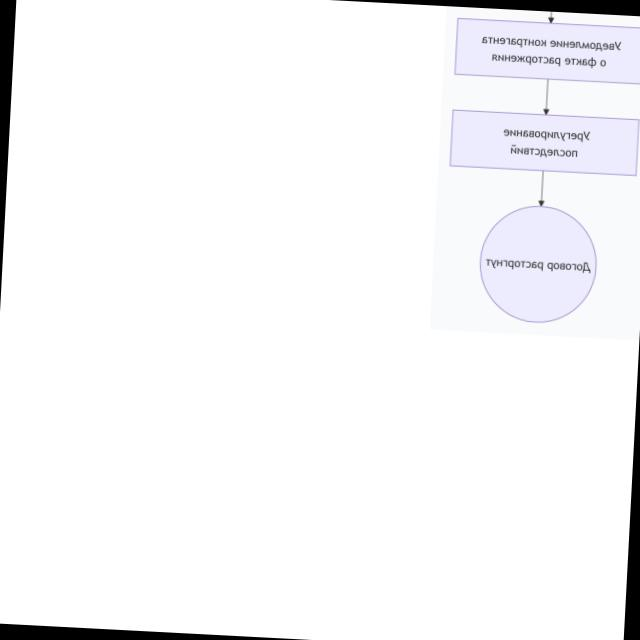arrow: (537, 171, 543, 205), (543, 81, 548, 105)
circle: (456, 184, 618, 345)
rectangle: (449, 110, 638, 175), (454, 19, 640, 85)
